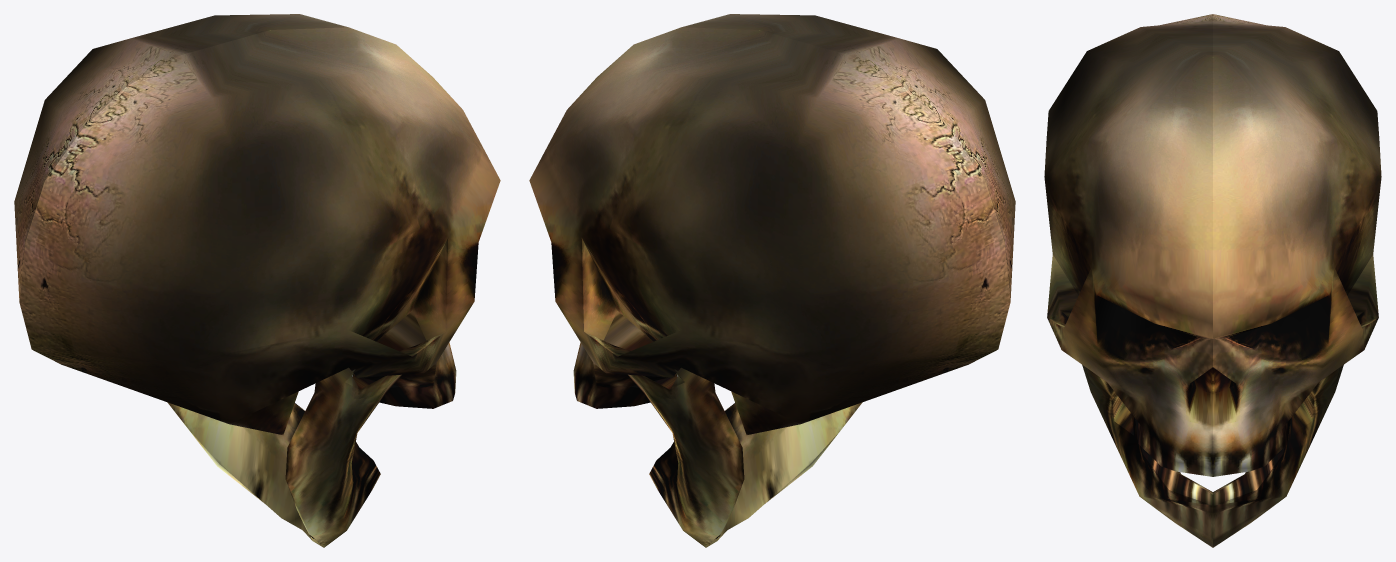
File: skull.obj
3 views of the same model, side by side, from view 1: azimuth 30°, elevation 25°; view 2: azimuth 150°, elevation 25°; view 3: azimuth 270°, elevation 25° (orthographic). The views are drawn at different scales.
Parts seen in each view (by area): view 1: ScreamingSkull02_smesh; view 2: ScreamingSkull02_smesh; view 3: ScreamingSkull02_smesh.
Part boxes in pixels (bbox=[...]): ScreamingSkull02_smesh: bbox=[14, 14, 500, 547]; ScreamingSkull02_smesh: bbox=[529, 14, 1015, 547]; ScreamingSkull02_smesh: bbox=[1044, 14, 1381, 547].
Bounding box in the file's own units: 2.99 × 3.31 × 2.16.
